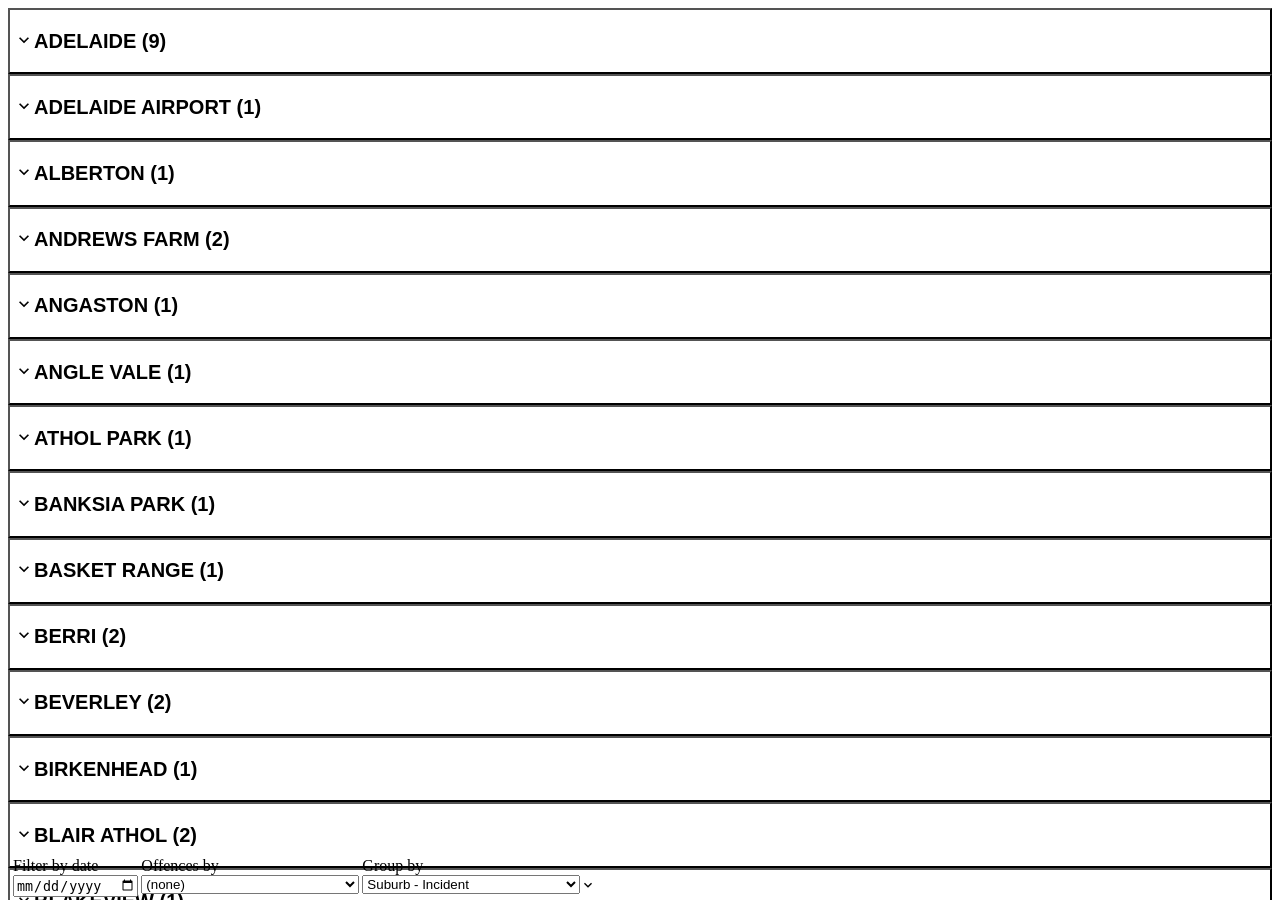
EndpointData › renders aggregated offence-count by lvl-1-desc when selected as offenceBy
Select "Offence Level 1 Description" in the dropdown labelled "Offences by" at (250, 885), box [141,876,359,895]
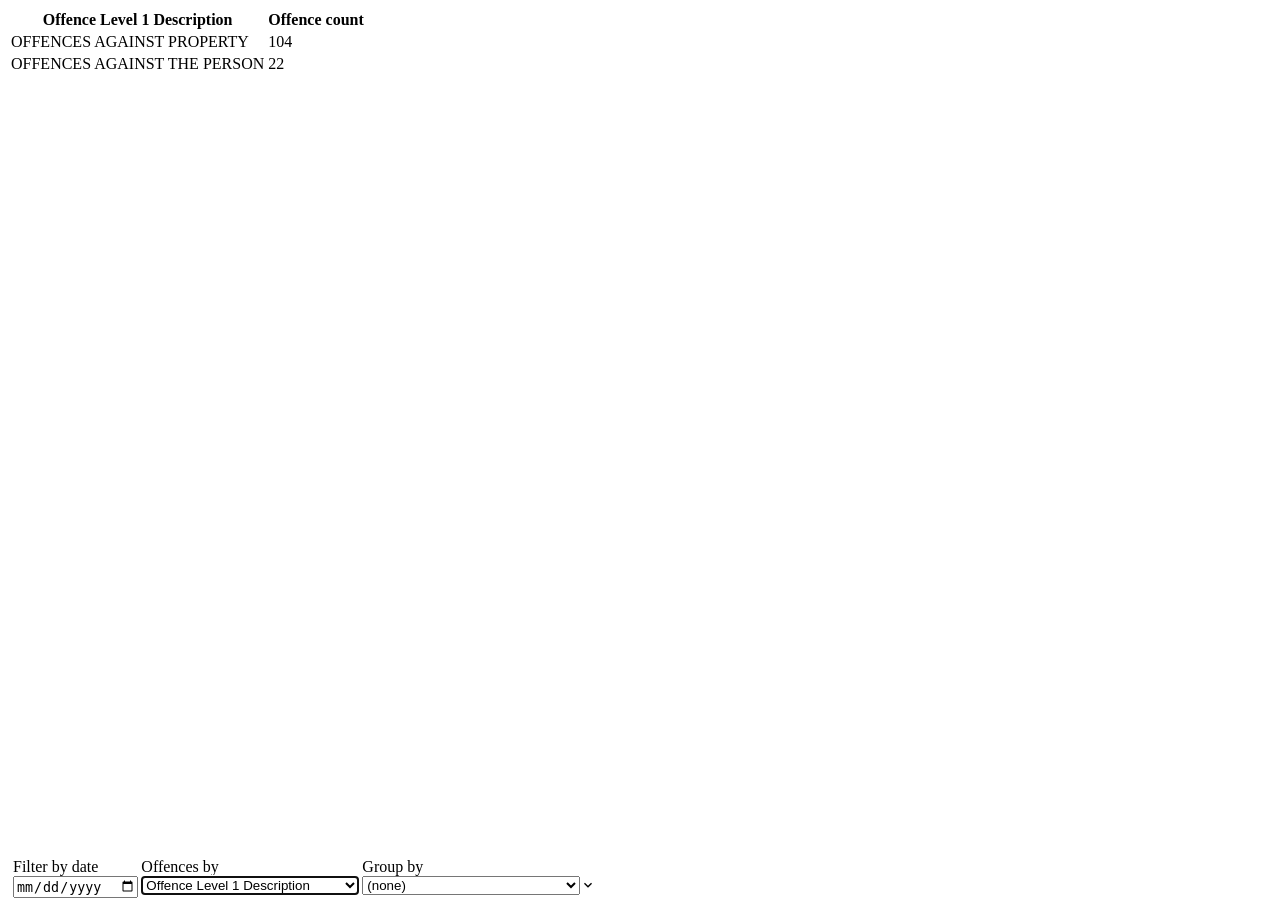
Now the element with test id "accordion-item" is gone
